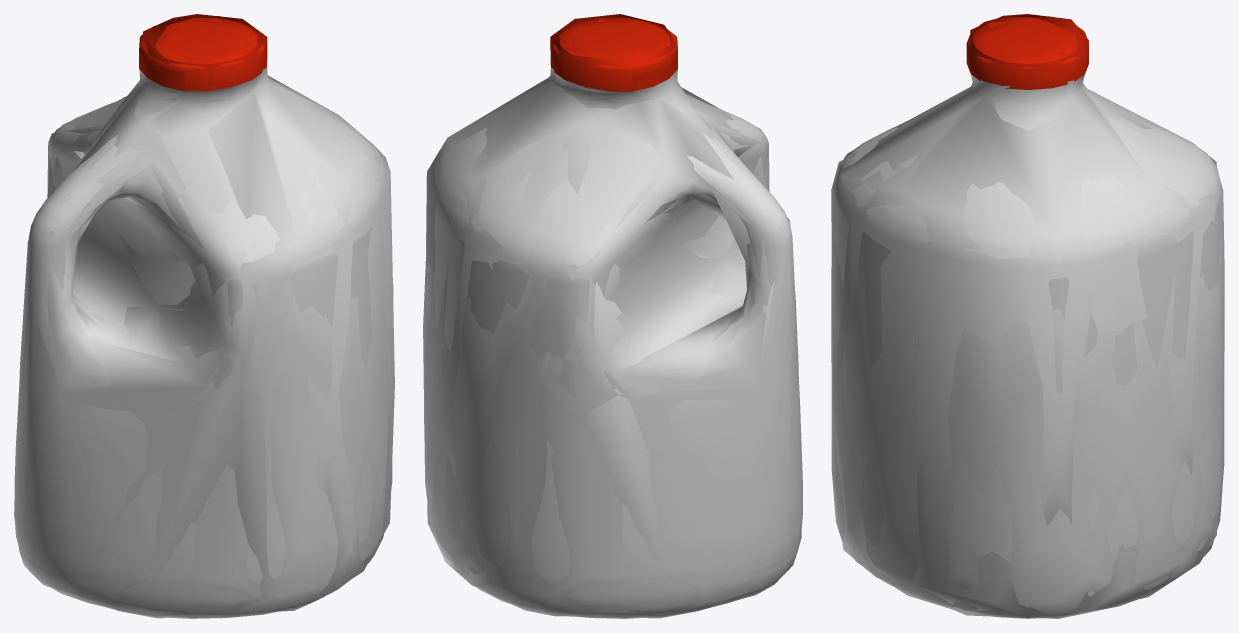
File: imp-milk.glb
3 views of the same model, side by side, from view 1: azimuth 30°, elevation 25°; view 2: azimuth 150°, elevation 25°; view 3: azimuth 270°, elevation 25° (orthographic).
Visible parts, largest first — view 1: Cube.001_1 (×3), Cube.001_0 (×3); view 2: Cube.001_1 (×3), Cube.001_0 (×3); view 3: Cube.001_1 (×3), Cube.001_0 (×2).
Boxes of the visible parts, x1,y1,x2,y2 form: Cube.001_1 (×3): [14, 60, 394, 618]; Cube.001_0 (×3): [139, 14, 267, 91]; Cube.001_1 (×3): [423, 68, 802, 618]; Cube.001_0 (×3): [550, 14, 677, 91]; Cube.001_1 (×3): [831, 74, 1224, 618]; Cube.001_0 (×2): [966, 14, 1088, 89].
Bounding box in the file's own units: 0.1917 × 0.27 × 0.1866.
